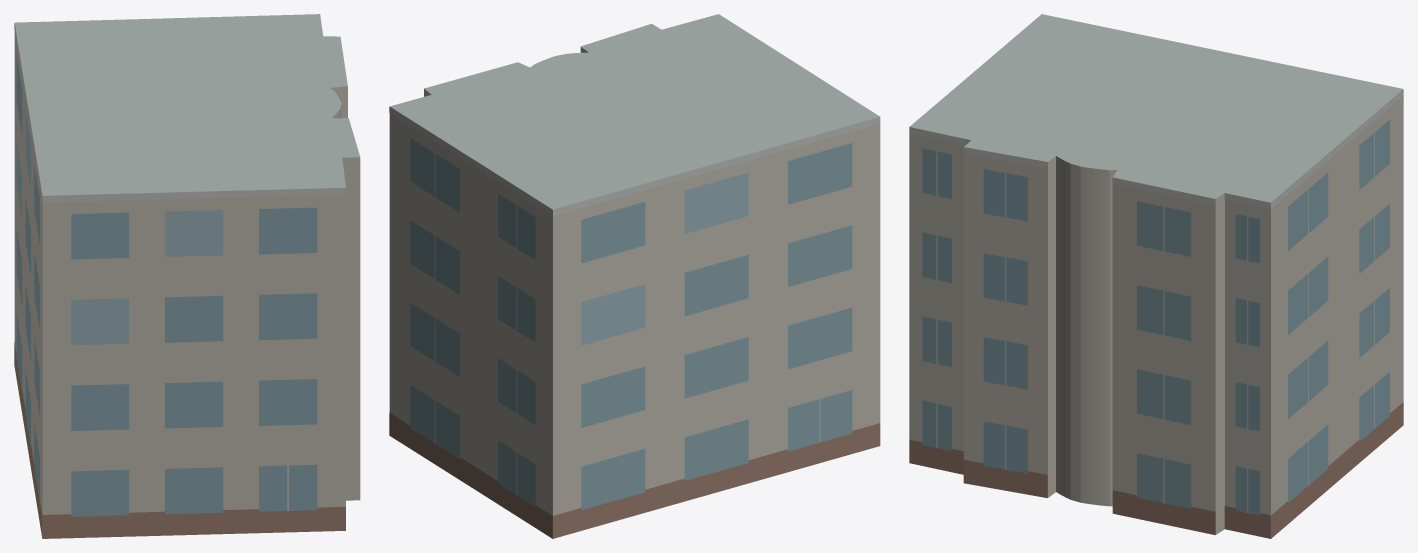
File: survey-upis-32674103.glb
The picture shows the model from 3 angles, left to right: view 1: azimuth 30°, elevation 25°; view 2: azimuth 150°, elevation 25°; view 3: azimuth 270°, elevation 25°; orthographic projection. The views are drawn at different scales.
Parts seen in each view (by area): view 1: survey-upis-32674103.tmp; view 2: survey-upis-32674103.tmp; view 3: survey-upis-32674103.tmp.
Part boxes in pixels (x1,y1,x2,y2): survey-upis-32674103.tmp: (14,14,360,538); survey-upis-32674103.tmp: (389,14,880,538); survey-upis-32674103.tmp: (909,14,1403,538).
Size of the model in its own units: 14.7 by 12.2 by 16.27.
